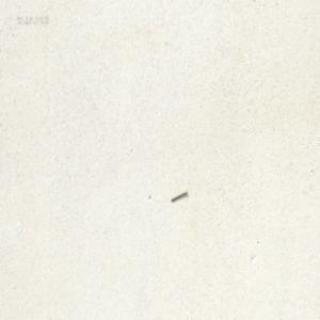Bolttrack_idkeyframe: (169, 188, 186, 201)
